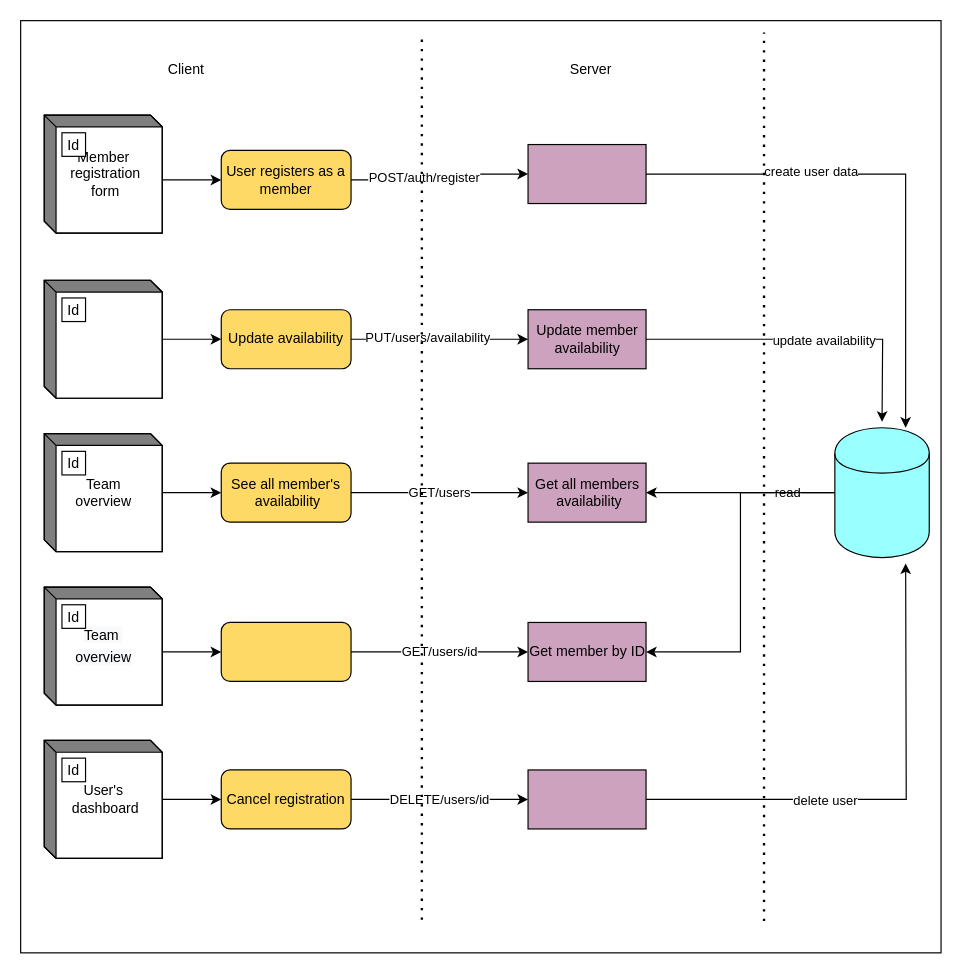
Some shapes in this 962 by 973 pixel diagram are drawn without their labels. Here are the shapes that lost their labels. From the top down, the centre of each, then its label:
At point 586,173: "Add new member".
At point 102,338: "Availability form".
At point 881,492: "users".
At point 285,651: "See availability of a member".
At point 586,799: "Delete member".
